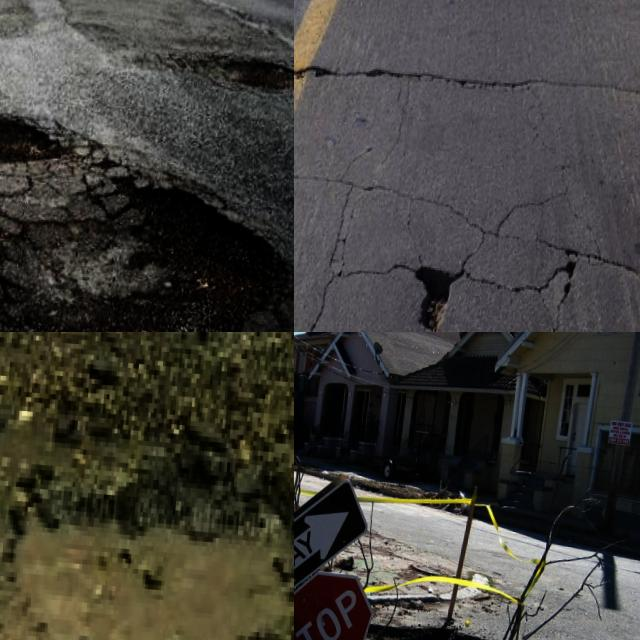Potholes: (0, 367, 294, 640), (0, 155, 294, 332), (351, 210, 640, 332), (0, 41, 101, 211), (294, 592, 571, 640), (294, 0, 402, 106), (205, 20, 294, 144)
